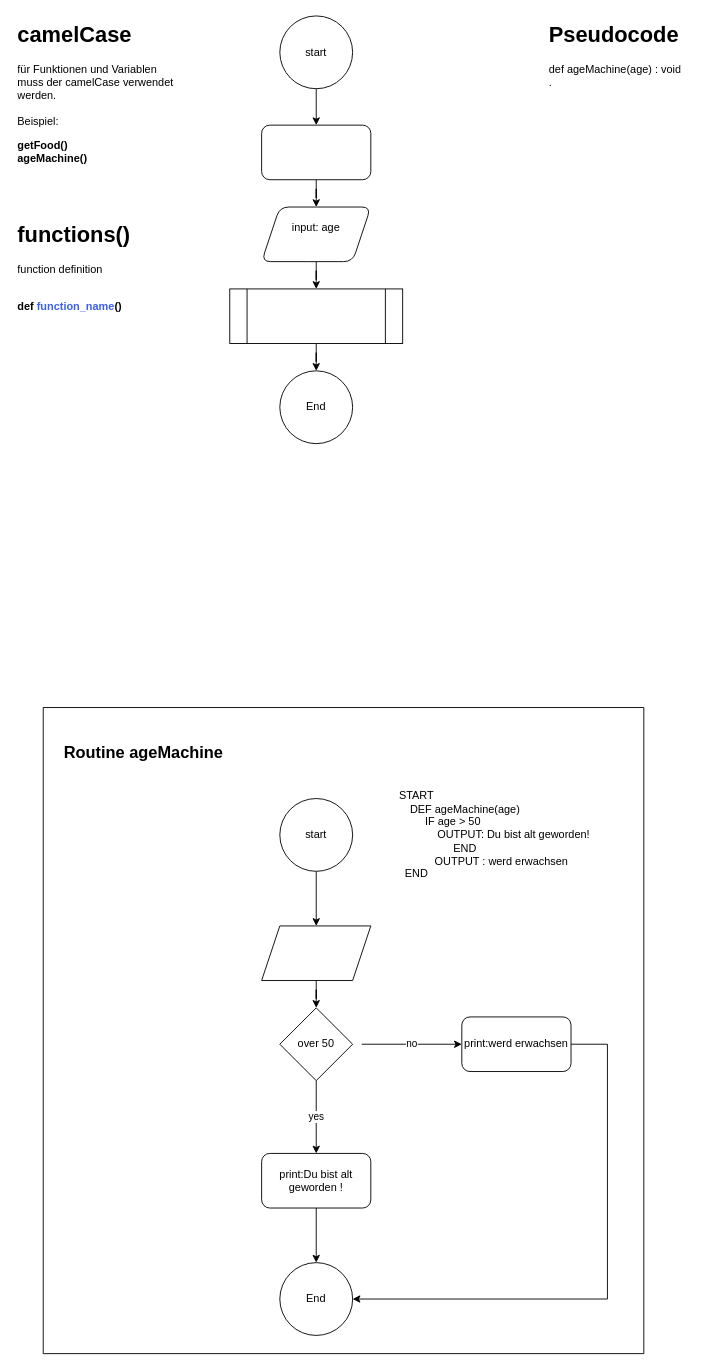
Image size: 726x1370. Some labels were removed from this diagram. Each missing label, with the centre of its shape:
"ageMachine" goes at point (316, 316).
"input" goes at point (316, 953).
"print : Wie alt bist du ?" goes at point (316, 152).
